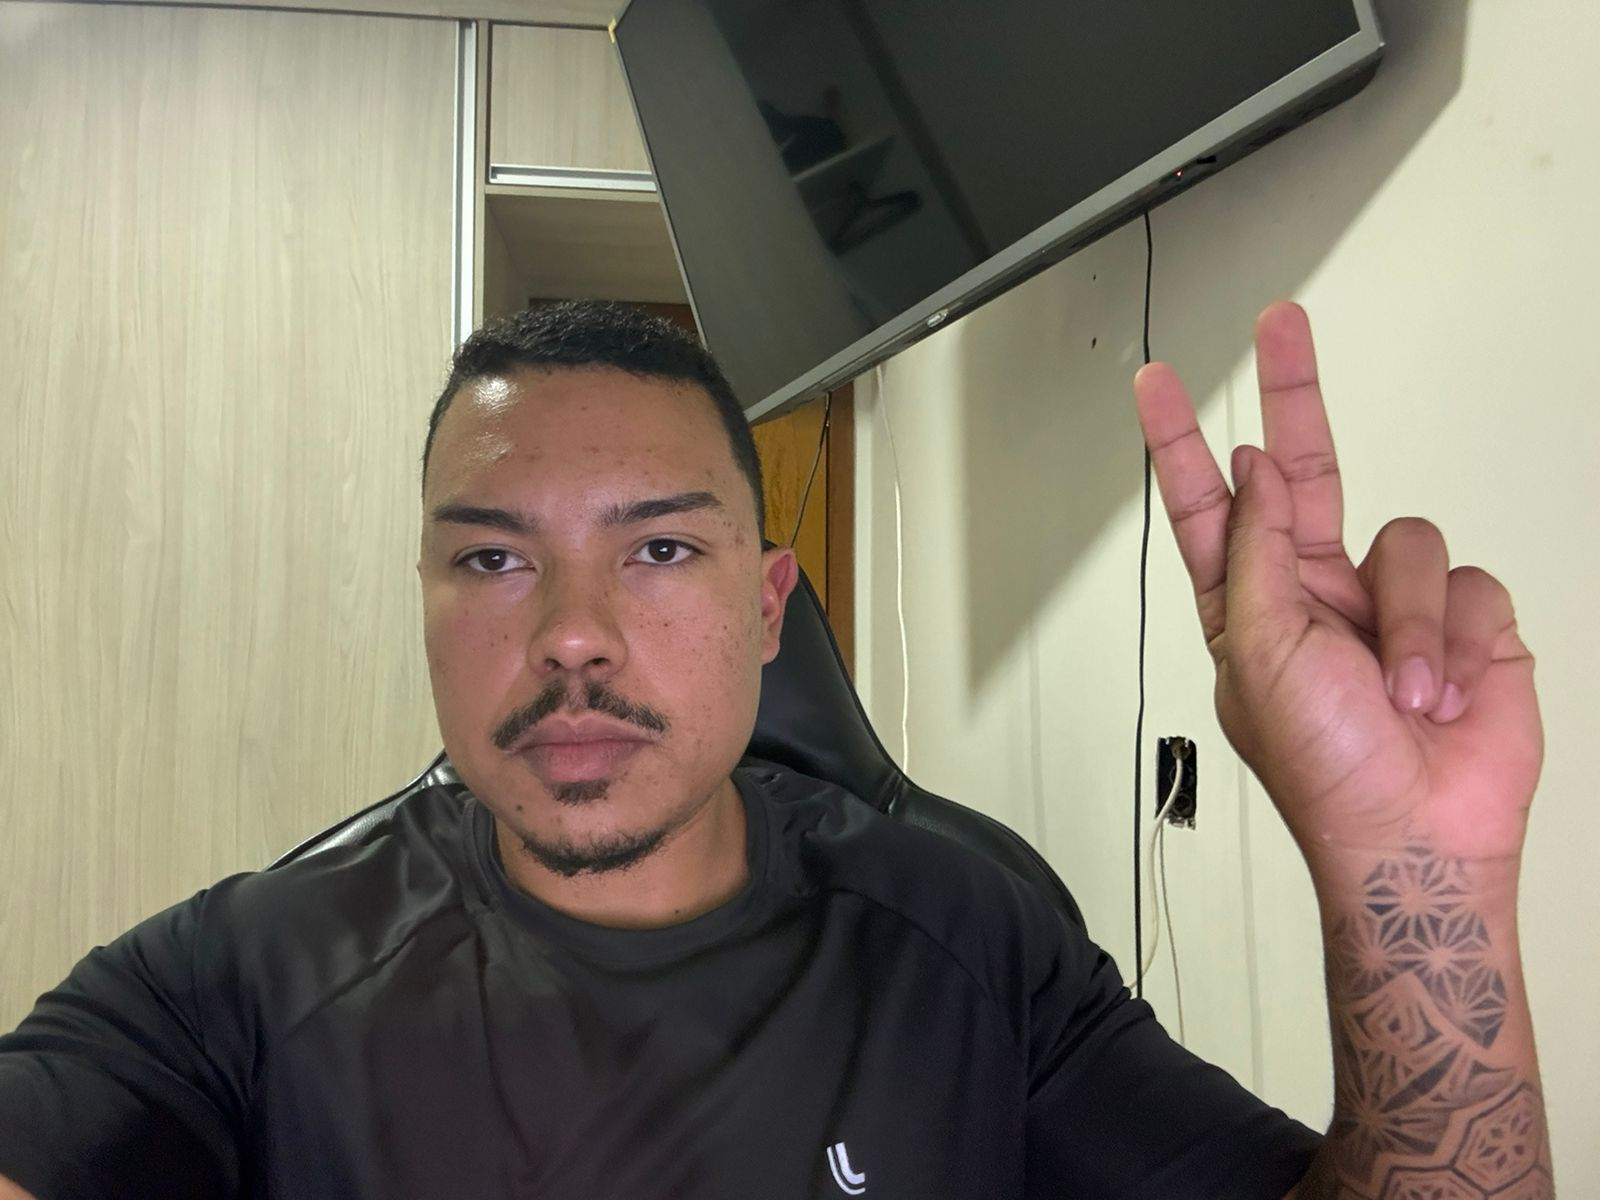k: (1112, 292, 1555, 876)
